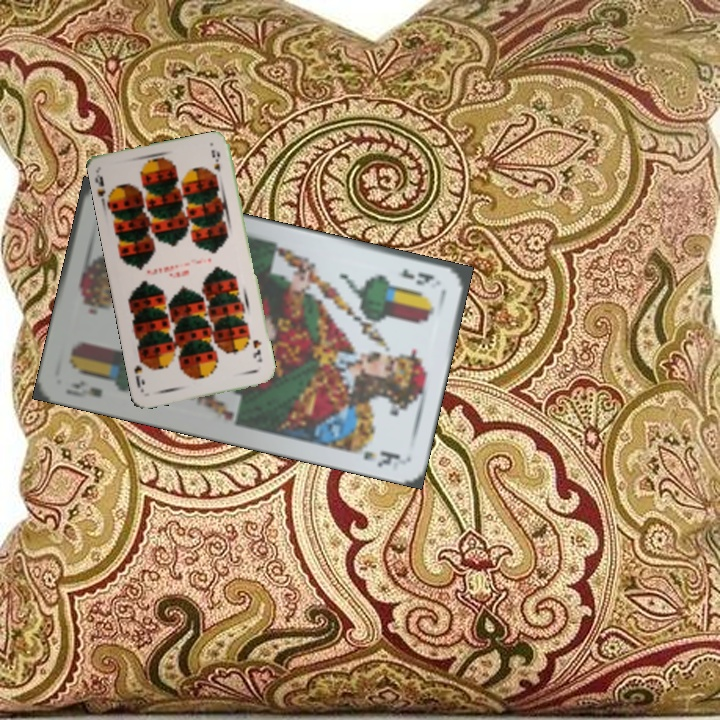EK: (61, 376, 105, 400), (397, 264, 438, 288)
S9: (92, 170, 114, 209), (249, 336, 265, 365)
